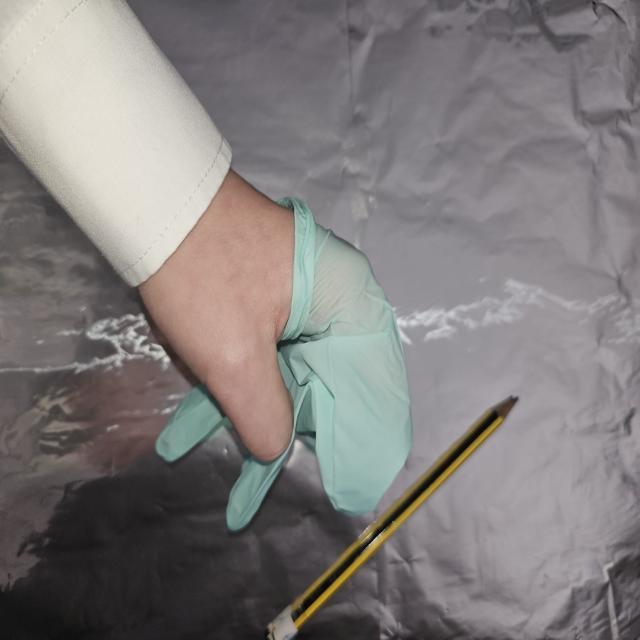glove_partial: (136, 167, 415, 531)
